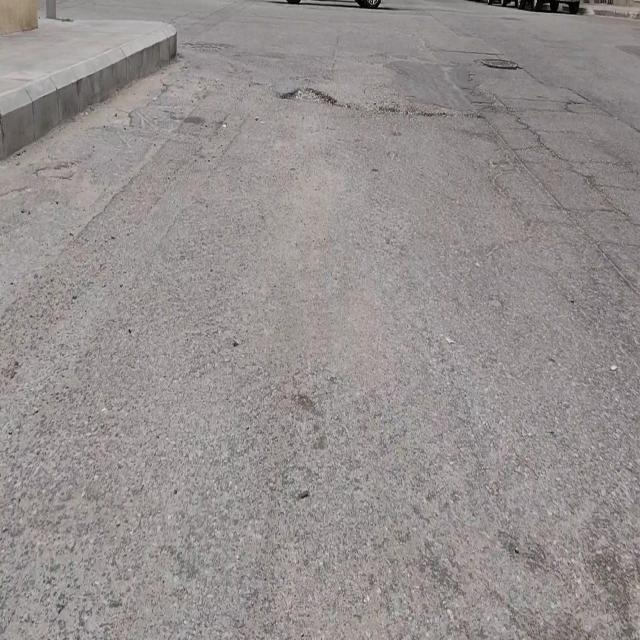Pothole: (277, 83, 338, 106)
